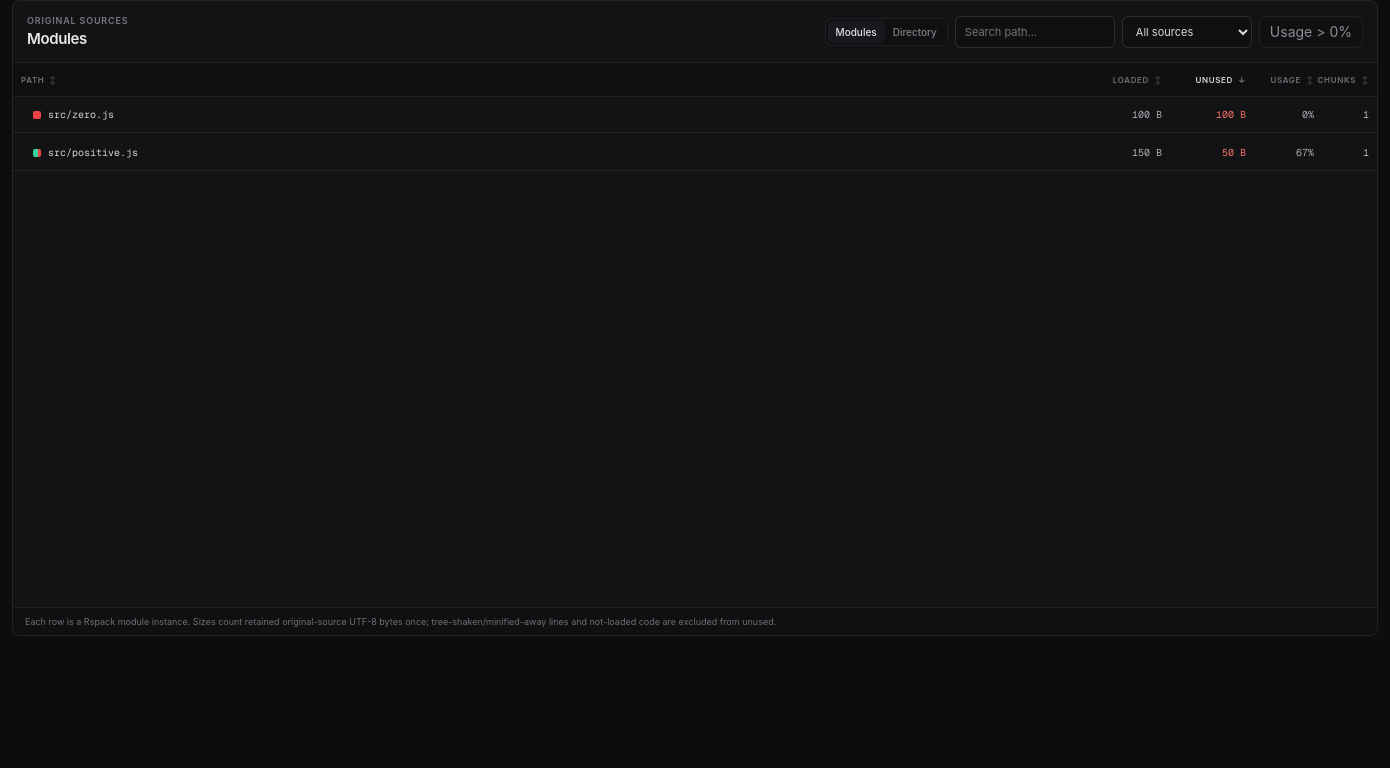
Test: SourceExplorer › filters modules and directory descendants to usage above zero
Click the button "Usage > 0%". click: coordinates (1311, 32)
box: [1259,16,1363,48]
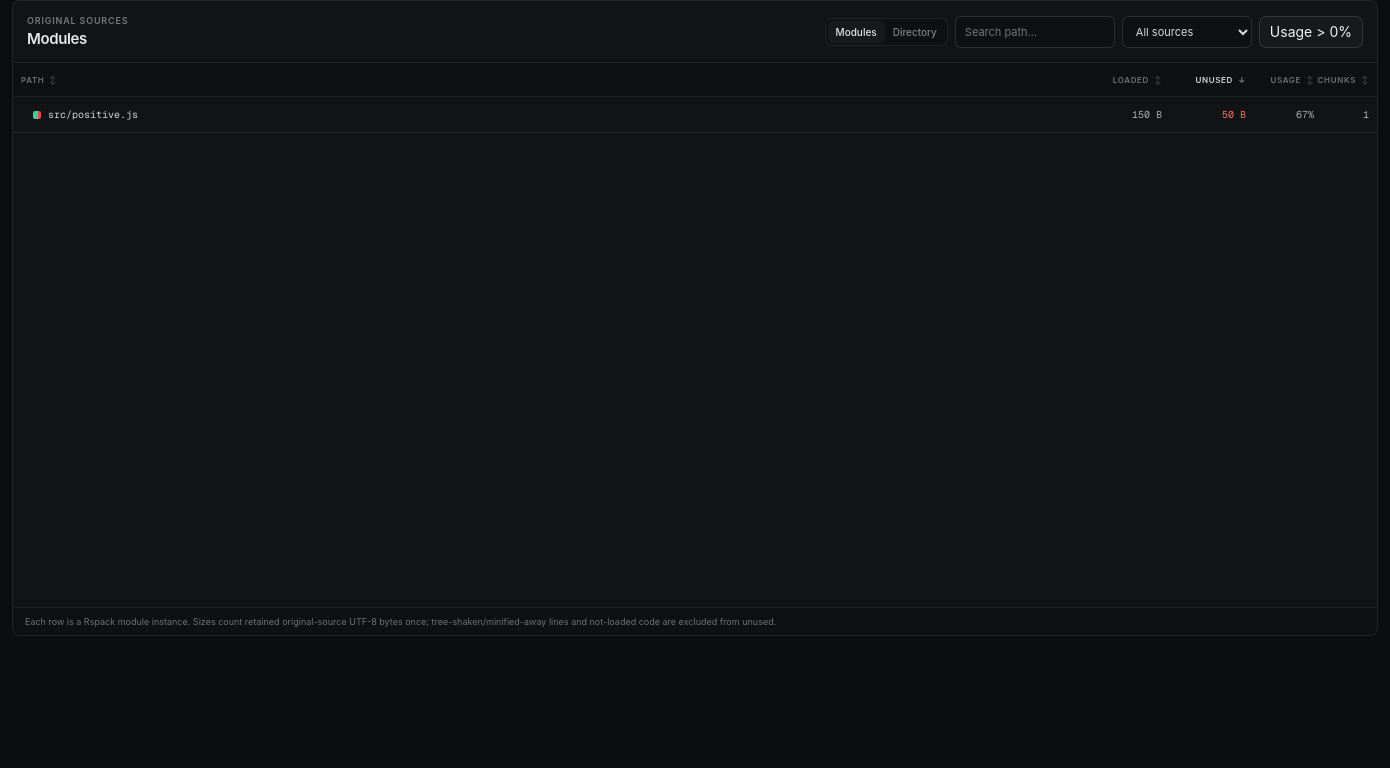
Check: the button with aria-label "Open module src/positive.js" is shown, box [13,97,1377,133]
Check: the button "Usage > 0%" is pressed, box [1259,16,1363,48]
Click the button "Directory". click: coordinates (915, 32)
box: [885,20,945,42]
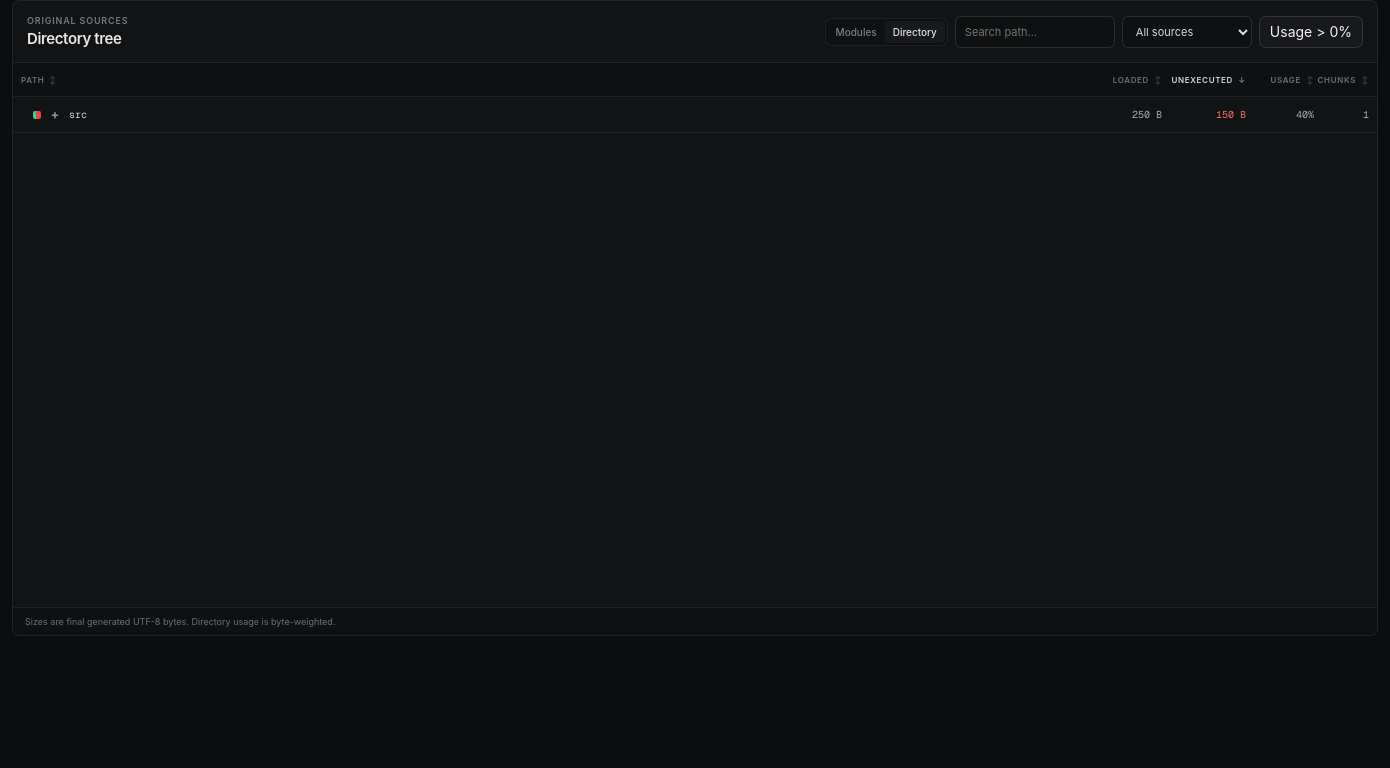
Click the button with aria-label "Expand directory src". click: coordinates (37, 114)
box: [13,97,1377,133]
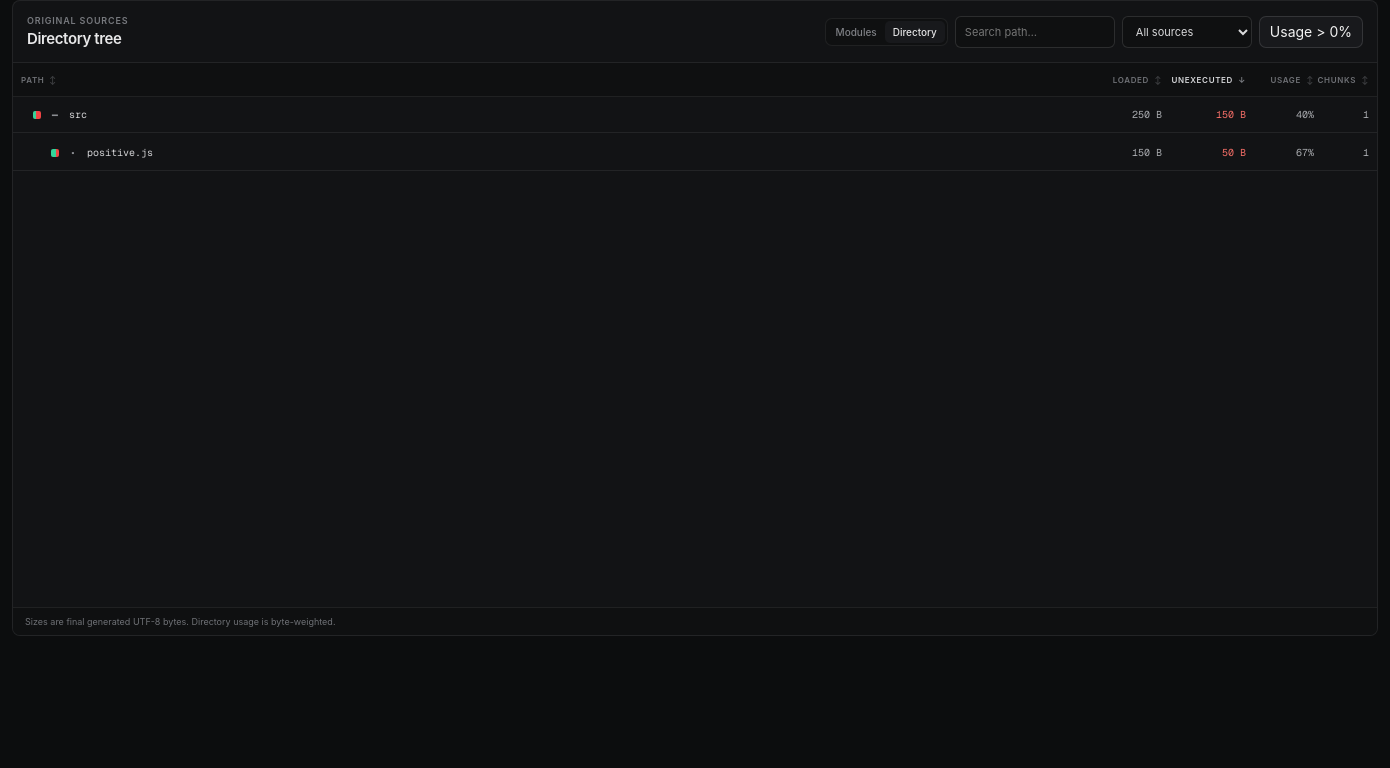
Check: the button with aria-label "Open source src/positive.js" is shown, box [13,135,1377,171]
